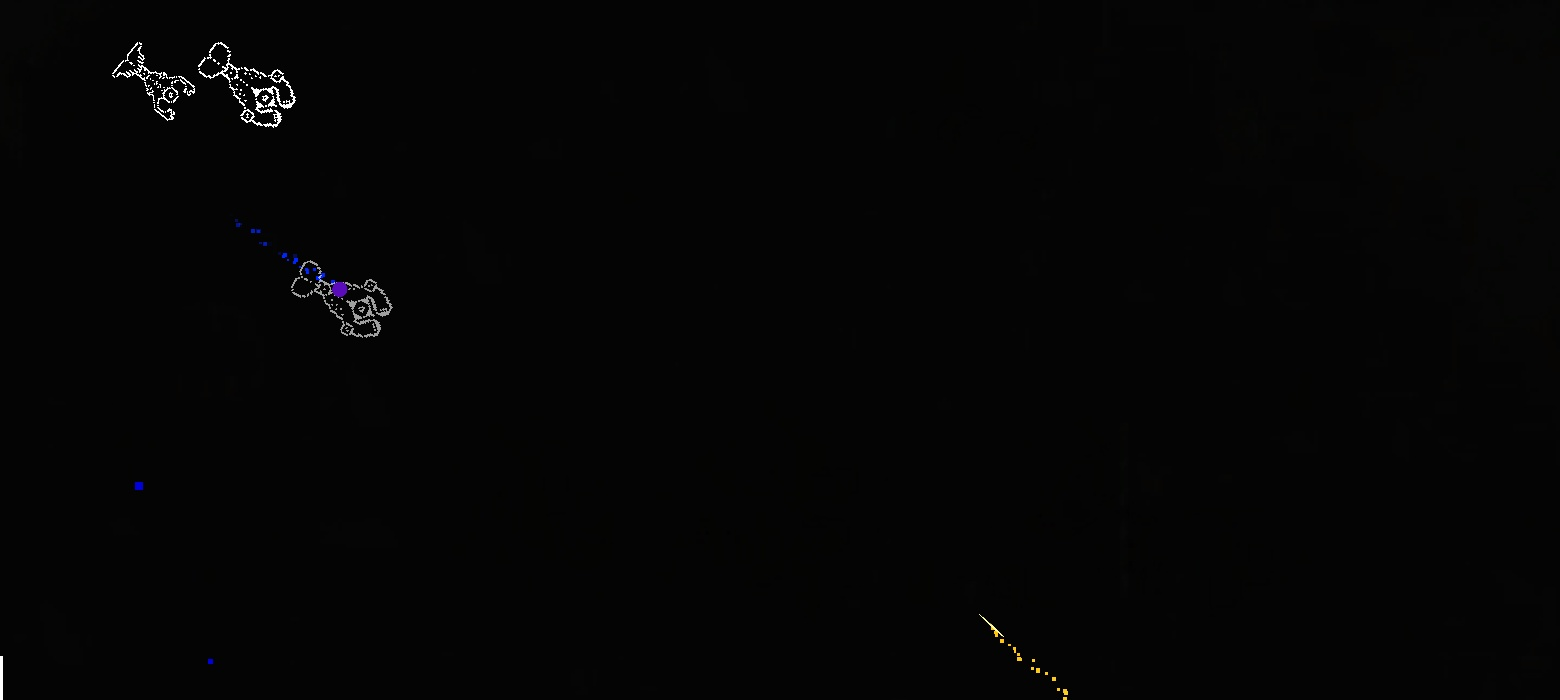enemy: (198, 42, 296, 128), (290, 260, 393, 338), (110, 42, 196, 121)
